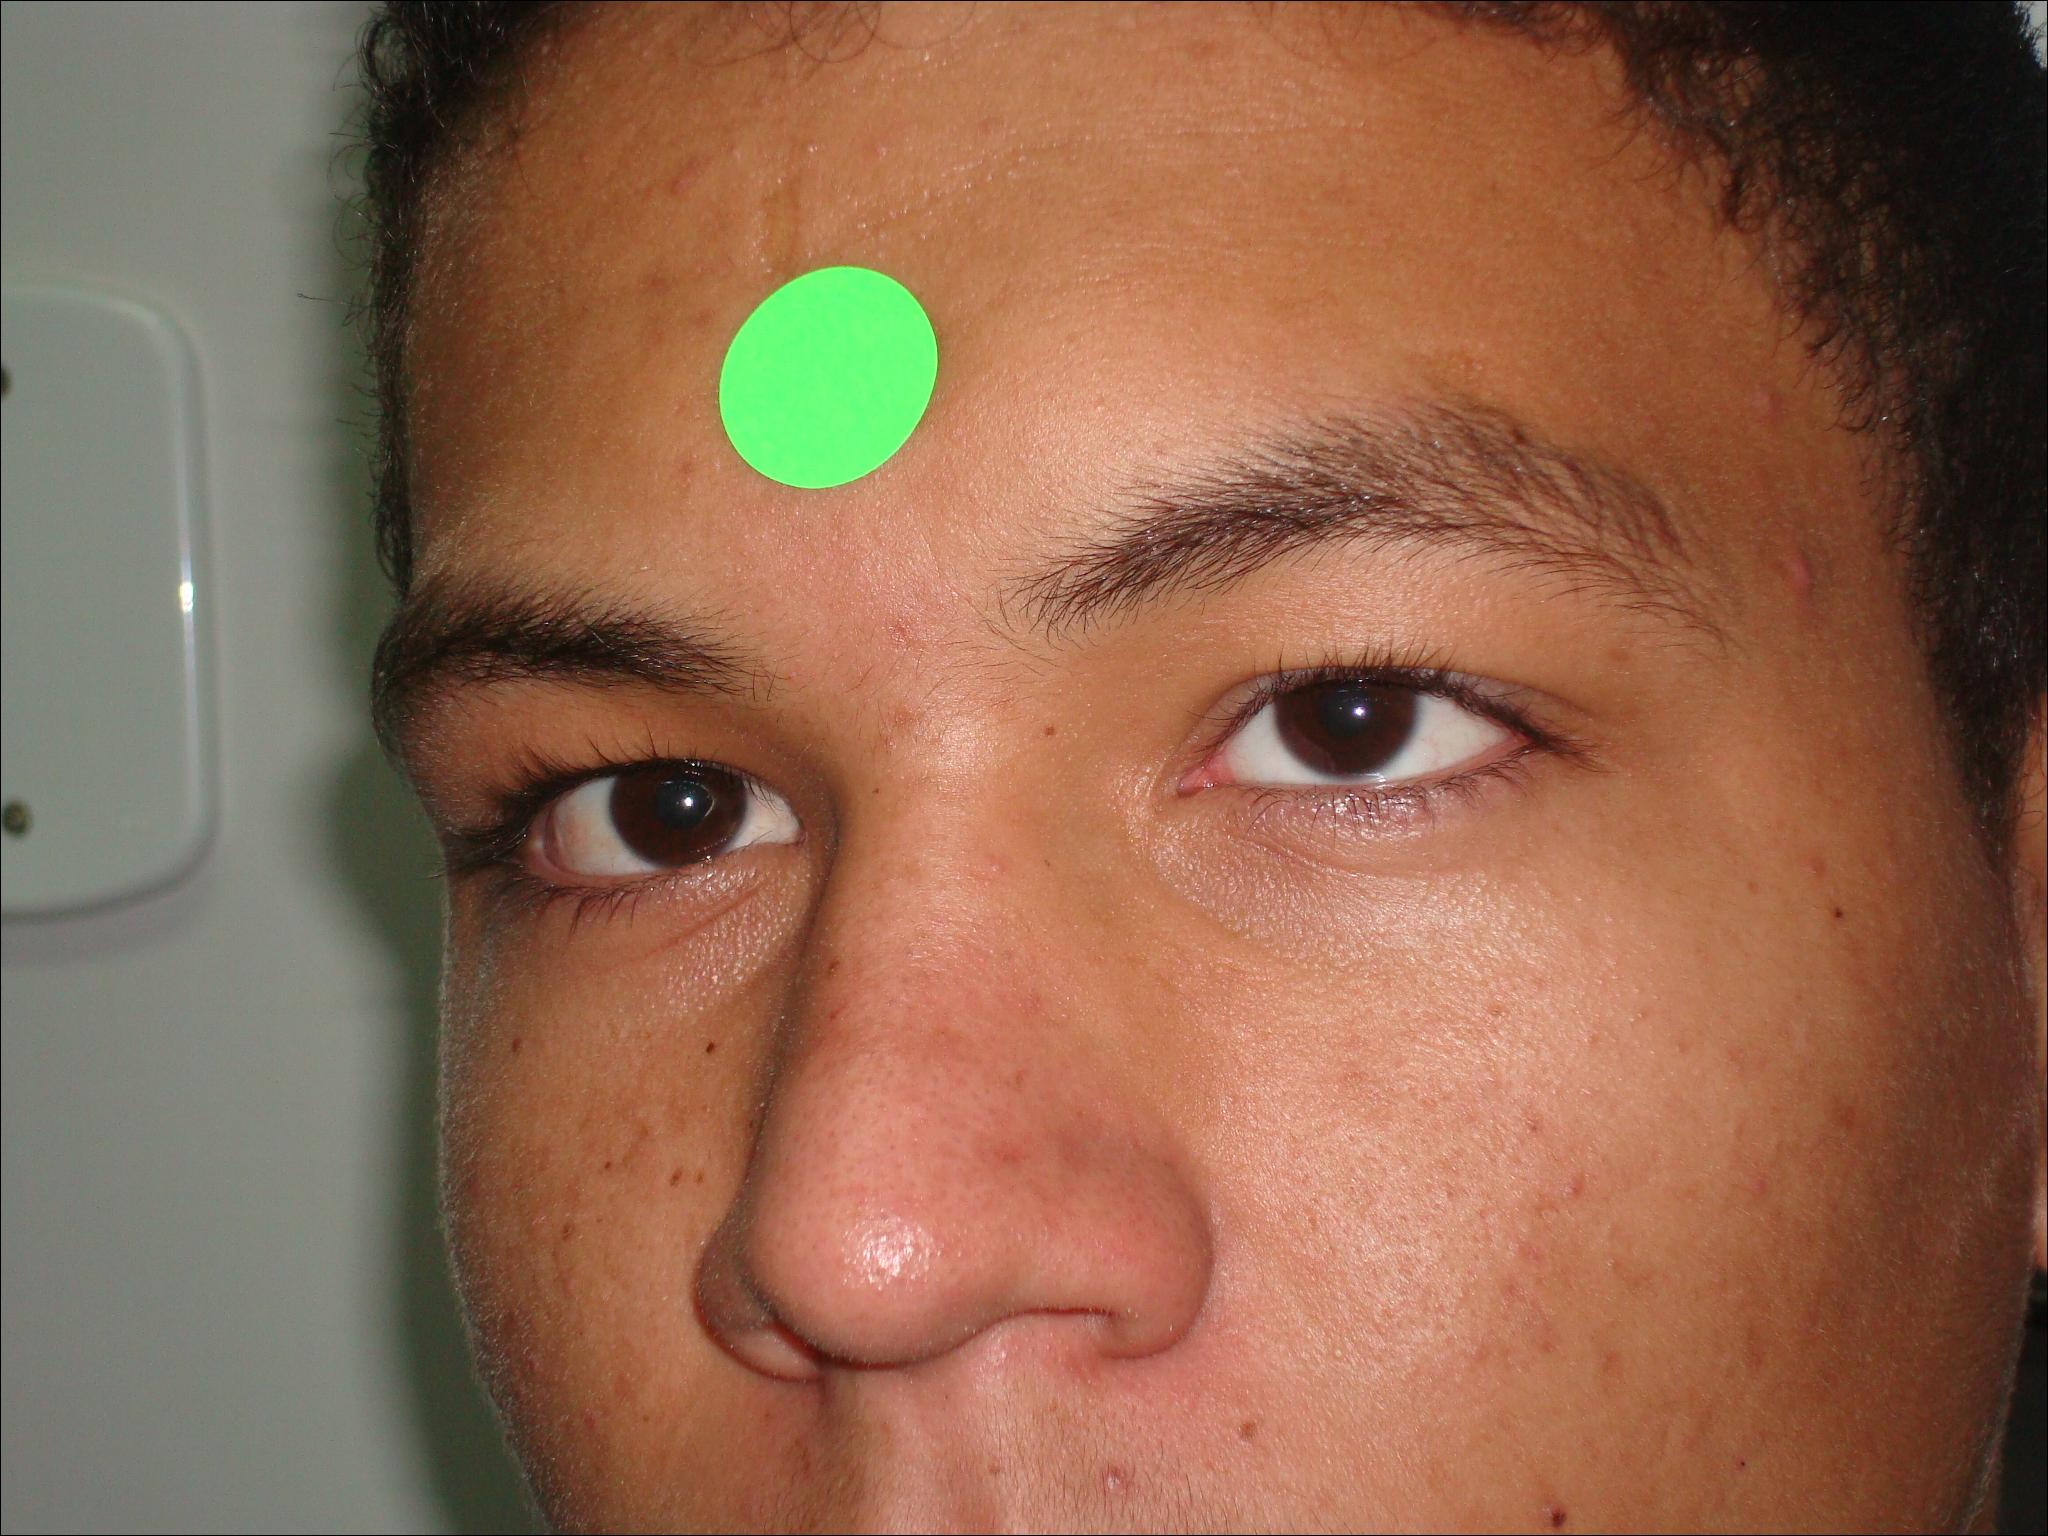flash: (1343, 695, 1376, 728), (679, 792, 698, 812)
limbo: (1276, 649, 1414, 771), (610, 745, 748, 862)
